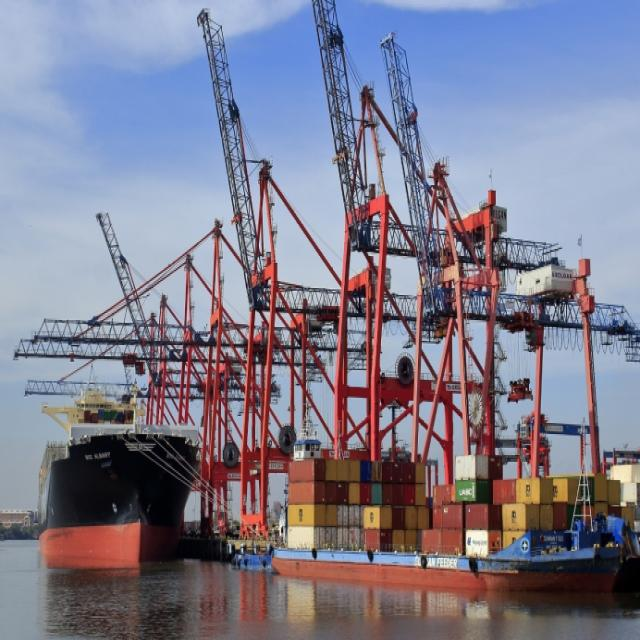tugboat: (269, 420, 640, 627)
